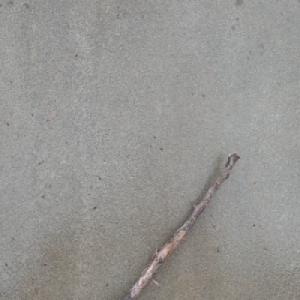Wood: (120, 150, 241, 300)
